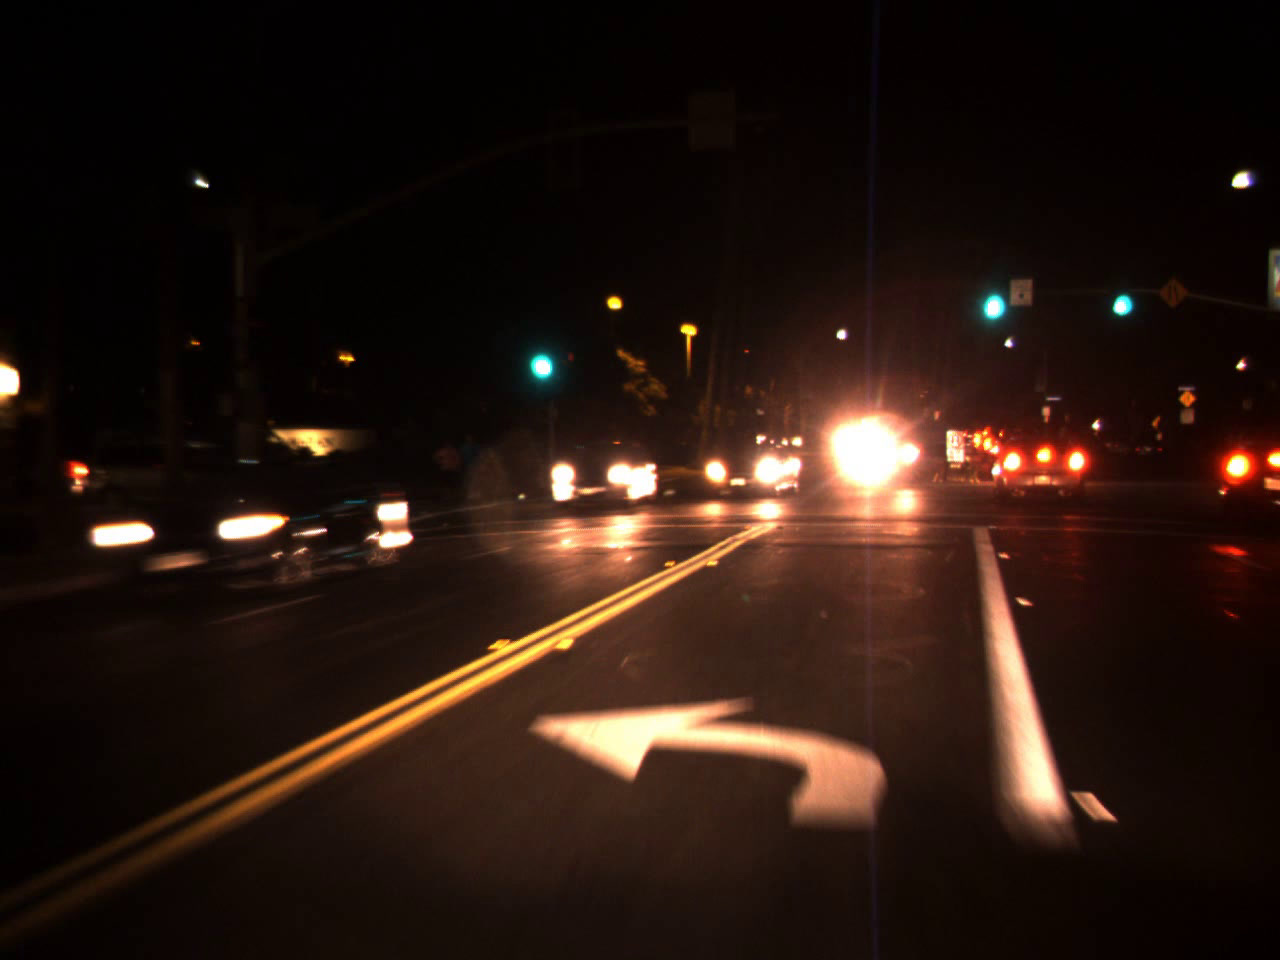go: (520, 323, 557, 389), (974, 263, 1010, 329), (1105, 269, 1135, 323)
